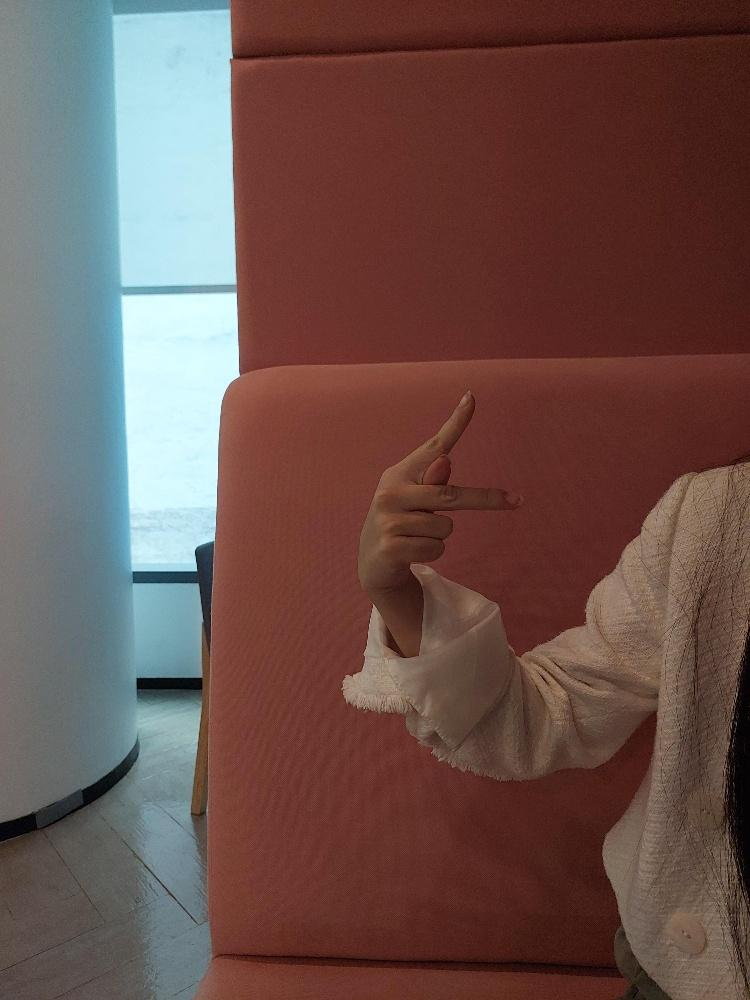k: (359, 390, 522, 587)
